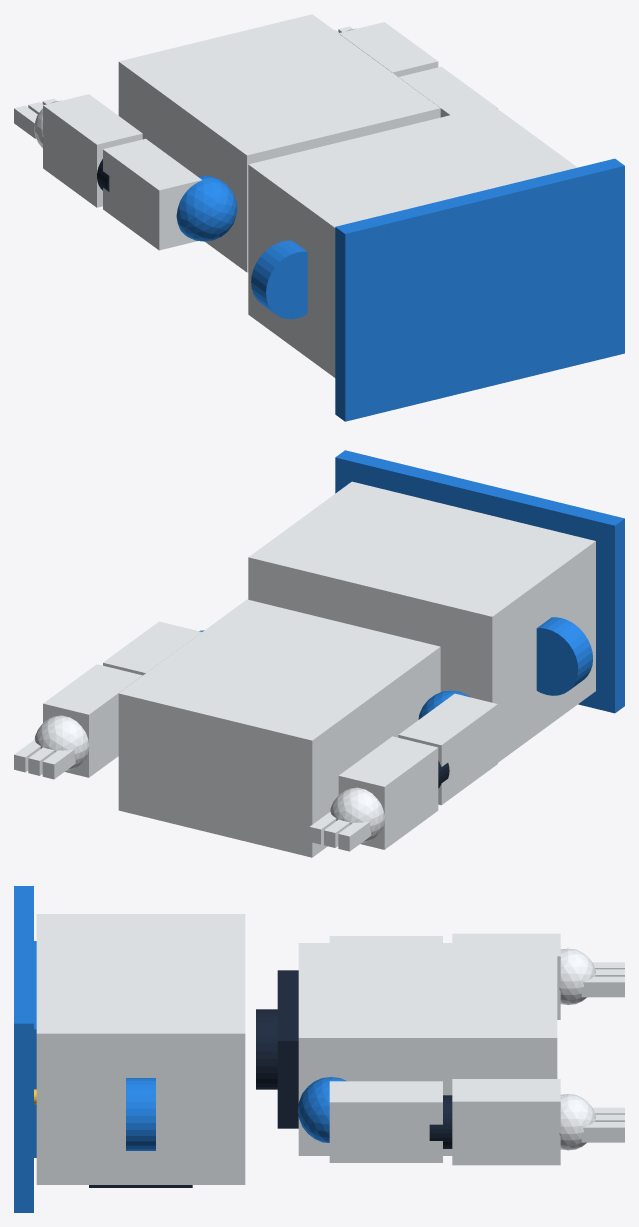
Rendered from Mr_Mentor_Rigged_V7_2.glb.
3 renders of one model, top to bottom at view 1: azimuth 30°, elevation 25°; view 2: azimuth 150°, elevation 25°; view 3: azimuth 270°, elevation 25°, orthographic.
Parts seen in each view (by area): view 1: Cap, Body, Head, UpperArmL, ForearmL, EarL, ShoulderL, ForearmR, UpperArmR; view 2: Body, Head, Cap, ForearmL, UpperArmL, ForearmR, EarL, UpperArmR, HandR, HandL, FingerL2, FingerR0; view 3: Head, Body, ForearmR, UpperArmR, Cap, Waist, EarR, Neck, ShoulderR, HandL, HandR, ForearmL (+5 smaller).
Part boxes in pixels (x1,y1,x2,y2): Cap: (335, 158, 624, 421); Body: (118, 14, 440, 272); Head: (248, 105, 577, 377); UpperArmL: (103, 138, 202, 250); ForearmL: (43, 94, 142, 207); EarL: (251, 240, 307, 319); ShoulderL: (176, 175, 237, 241); ForearmR: (338, 22, 438, 76); UpperArmR: (398, 66, 497, 116); Body: (118, 599, 440, 857); Head: (248, 481, 595, 762); Cap: (335, 450, 624, 713); ForearmL: (338, 736, 438, 849); UpperArmL: (398, 693, 497, 805); ForearmR: (43, 664, 142, 777); EarL: (536, 617, 592, 695); UpperArmR: (103, 621, 201, 675); HandR: (34, 715, 89, 770); HandL: (330, 787, 385, 843); FingerL2: (338, 821, 371, 851); FingerR0: (42, 749, 75, 779); Head: (36, 914, 245, 1184); Body: (298, 943, 557, 1155); ForearmR: (452, 1079, 560, 1165); UpperArmR: (329, 1081, 442, 1162); Cap: (14, 886, 33, 1212); Waist: (277, 970, 298, 1128); EarR: (126, 1078, 155, 1150); Neck: (256, 1009, 277, 1089); ShoulderR: (298, 1077, 346, 1142); HandL: (559, 948, 595, 1004); HandR: (559, 1094, 595, 1150); ForearmL: (452, 933, 560, 1019).
Size of the model in its own units: 2.4 by 1.35 by 3.66.
